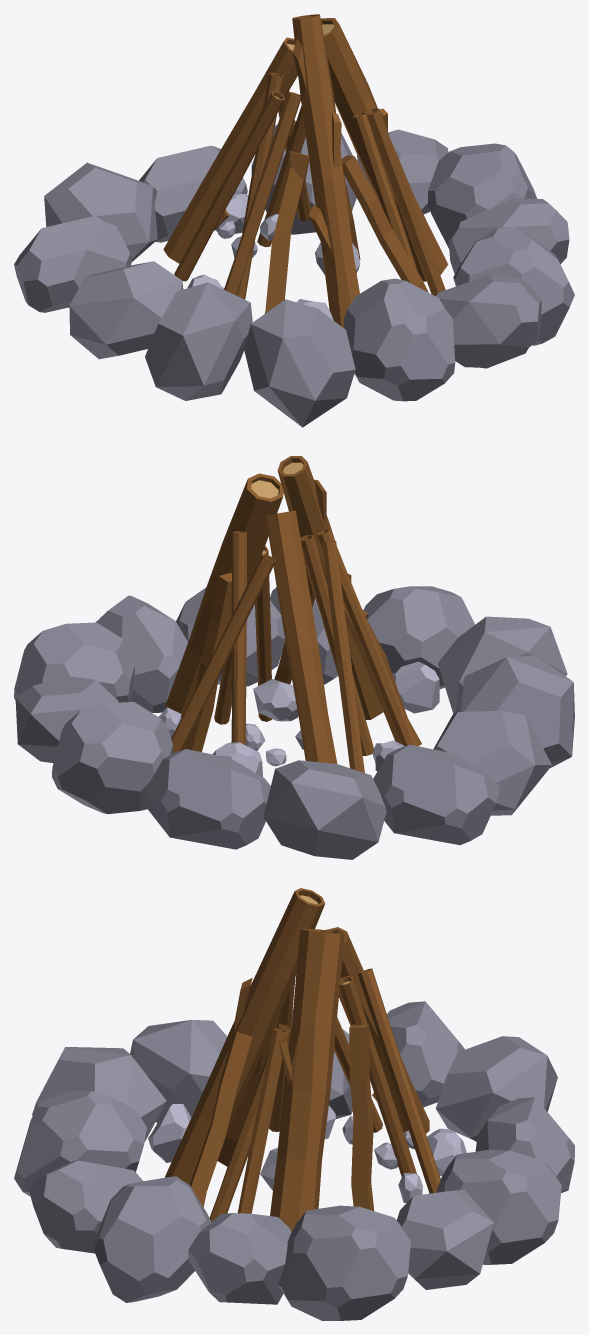
File: Campfire.fbx
3 renders of one model, top to bottom at view 1: azimuth 30°, elevation 25°; view 2: azimuth 150°, elevation 25°; view 3: azimuth 270°, elevation 25°, orthographic. The views are drawn at different scales.
Parts seen in each view (by area): view 1: log_8a.008; view 2: log_8a.008; view 3: log_8a.008.
Part boxes in pixels (x1,y1,x2,y2): log_8a.008: [14, 14, 574, 427]; log_8a.008: [14, 456, 574, 859]; log_8a.008: [14, 888, 574, 1320].
Size of the model in its own units: 247 by 150 by 230.
